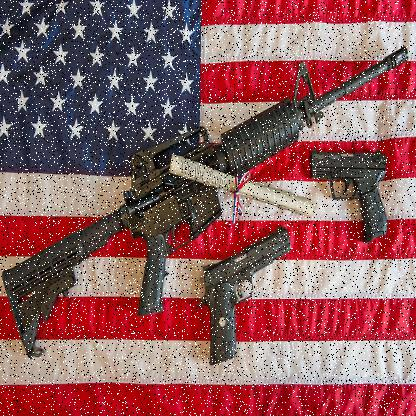pistol: (197, 224, 292, 367), (311, 144, 391, 246)
